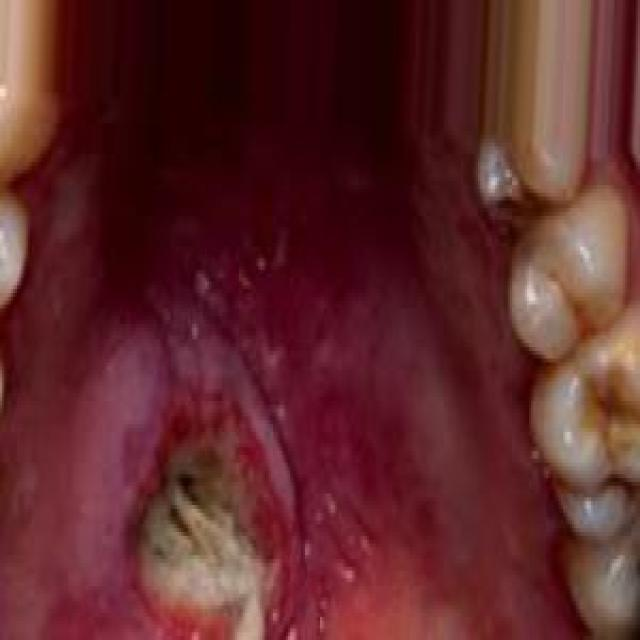caries: (563, 346, 640, 474)
